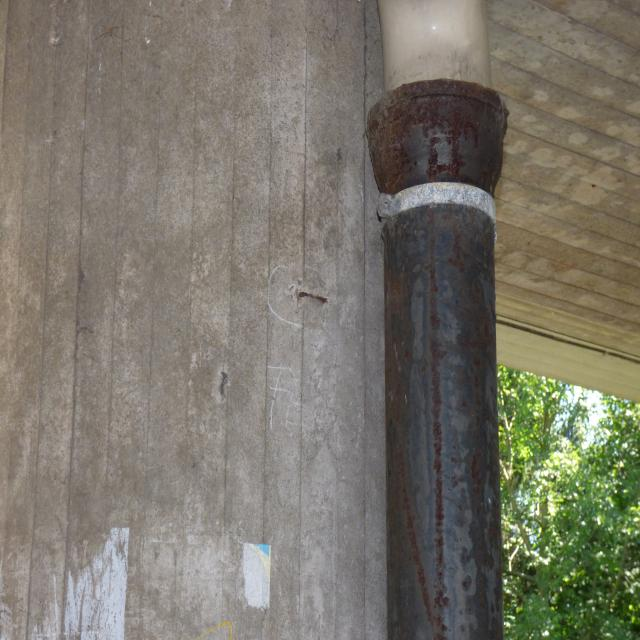corrosion: (361, 76, 513, 640), (297, 278, 334, 312)
